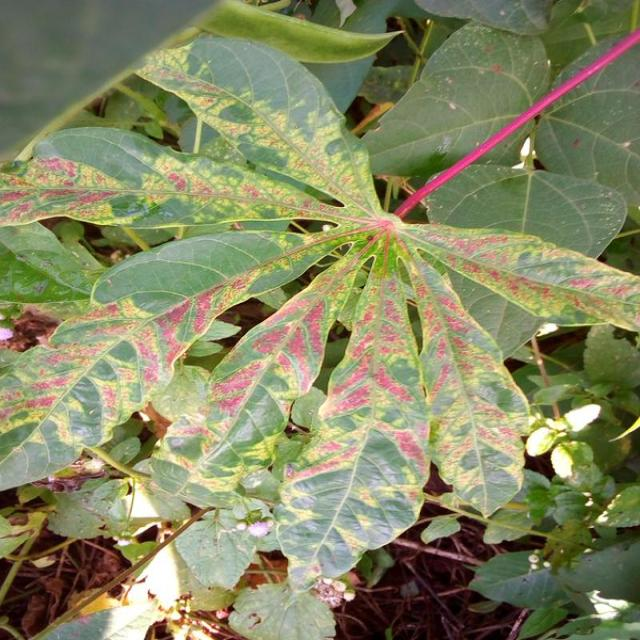cassava leaf: (1, 8, 638, 632)
